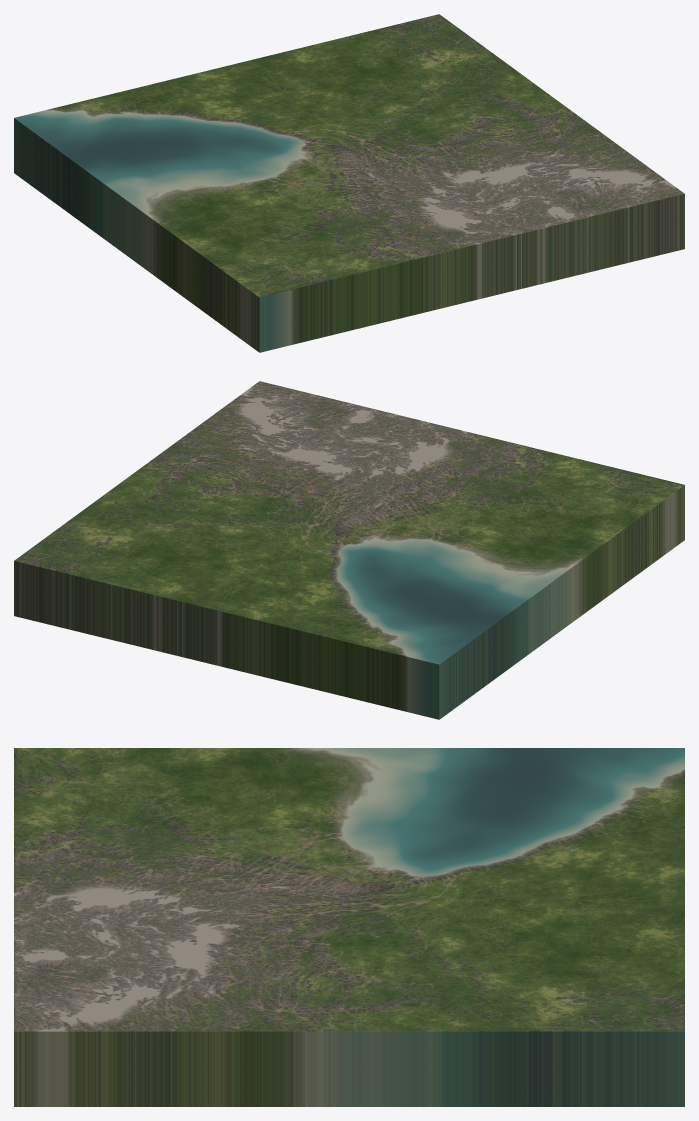
3 views of the same model, one above another, from view 1: azimuth 30°, elevation 25°; view 2: azimuth 150°, elevation 25°; view 3: azimuth 270°, elevation 25° (orthographic). The views are drawn at different scales.
Parts seen in each view (by area): view 1: Mountain Lake; view 2: Mountain Lake; view 3: Mountain Lake.
Boxes of the visible parts, bbox=[...] form: Mountain Lake: bbox=[14, 14, 684, 352]; Mountain Lake: bbox=[14, 381, 684, 719]; Mountain Lake: bbox=[14, 748, 684, 1106].
Bounding box in the file's own units: 2 × 0.2479 × 2.
1 material, 1 textured.
